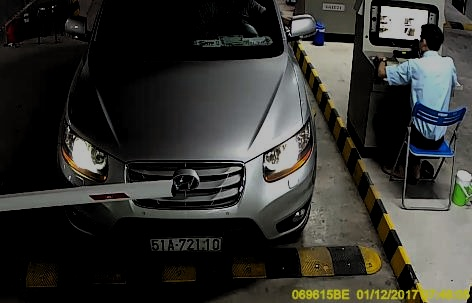plate: (146, 232, 222, 253)
